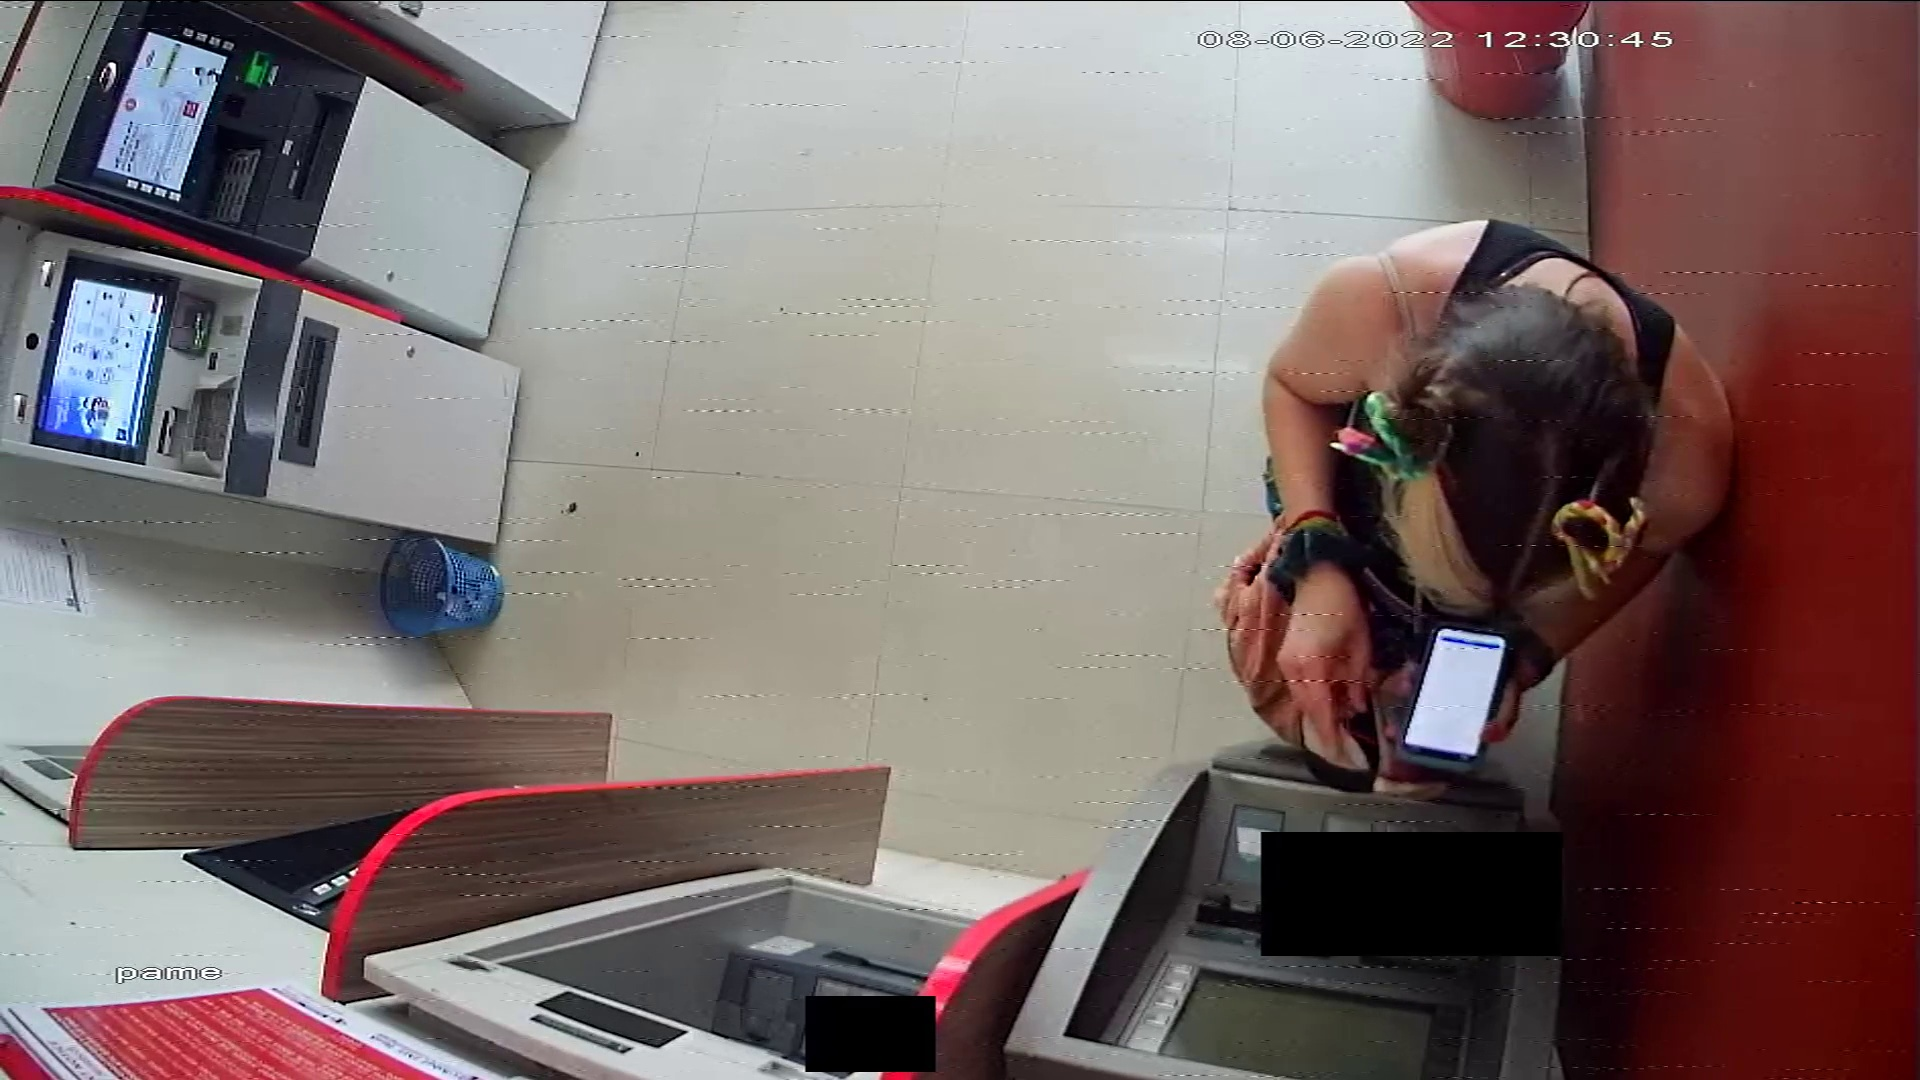person: (1262, 219, 1734, 764)
phone: (1400, 625, 1508, 765)
